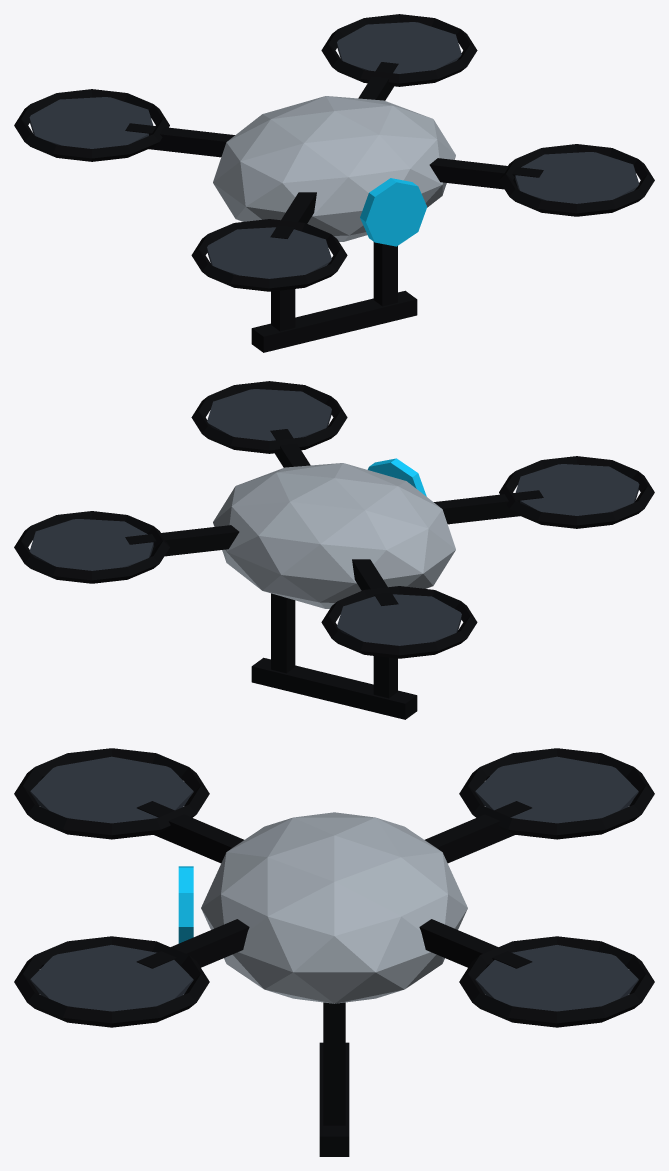
Rendered from drone.obj.
The picture shows the model from 3 angles, top to bottom: view 1: azimuth 30°, elevation 25°; view 2: azimuth 150°, elevation 25°; view 3: azimuth 270°, elevation 25°; orthographic projection. The views are drawn at different scales.
Visible parts, largest first — view 1: drone; view 2: drone; view 3: drone.
Part boxes in pixels (box(x1,y1,x2,y2)): drone: box(14, 14, 654, 352); drone: box(14, 381, 654, 719); drone: box(14, 748, 654, 1156).
Size of the model in its own units: 0.864 by 0.408 by 0.864.
